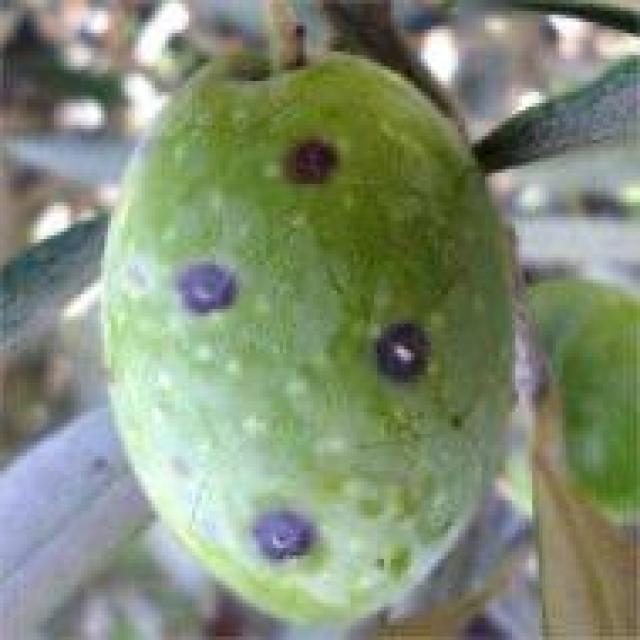Anthracnose: (104, 58, 516, 632)
